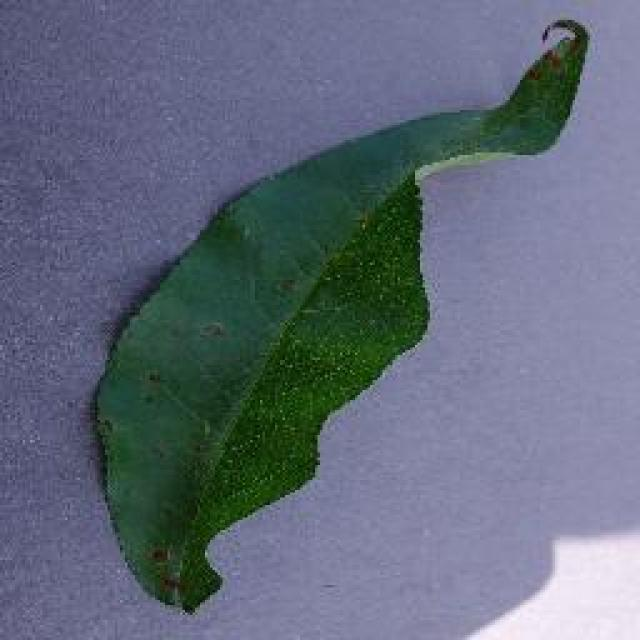Peach_Bacterial_Spot: (105, 315, 282, 575)
